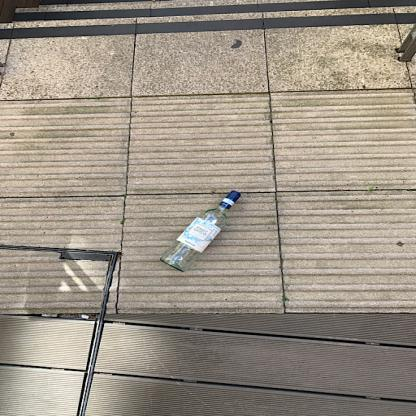trash: (157, 188, 242, 278)
